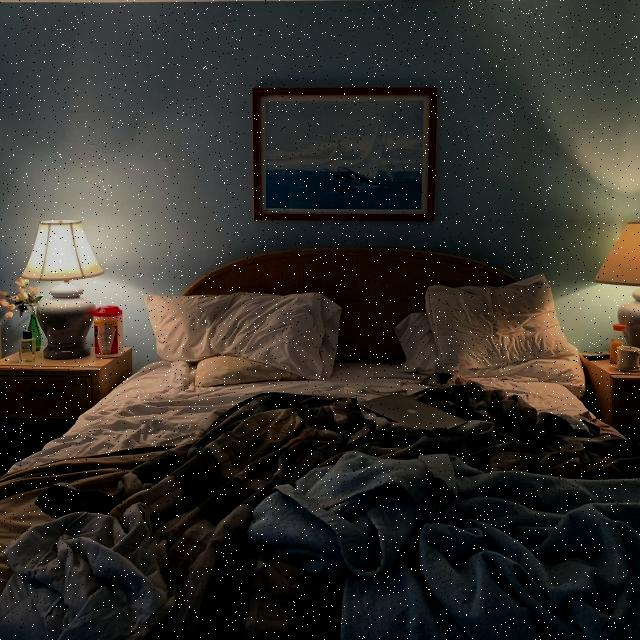bed: (50, 271, 626, 615)
